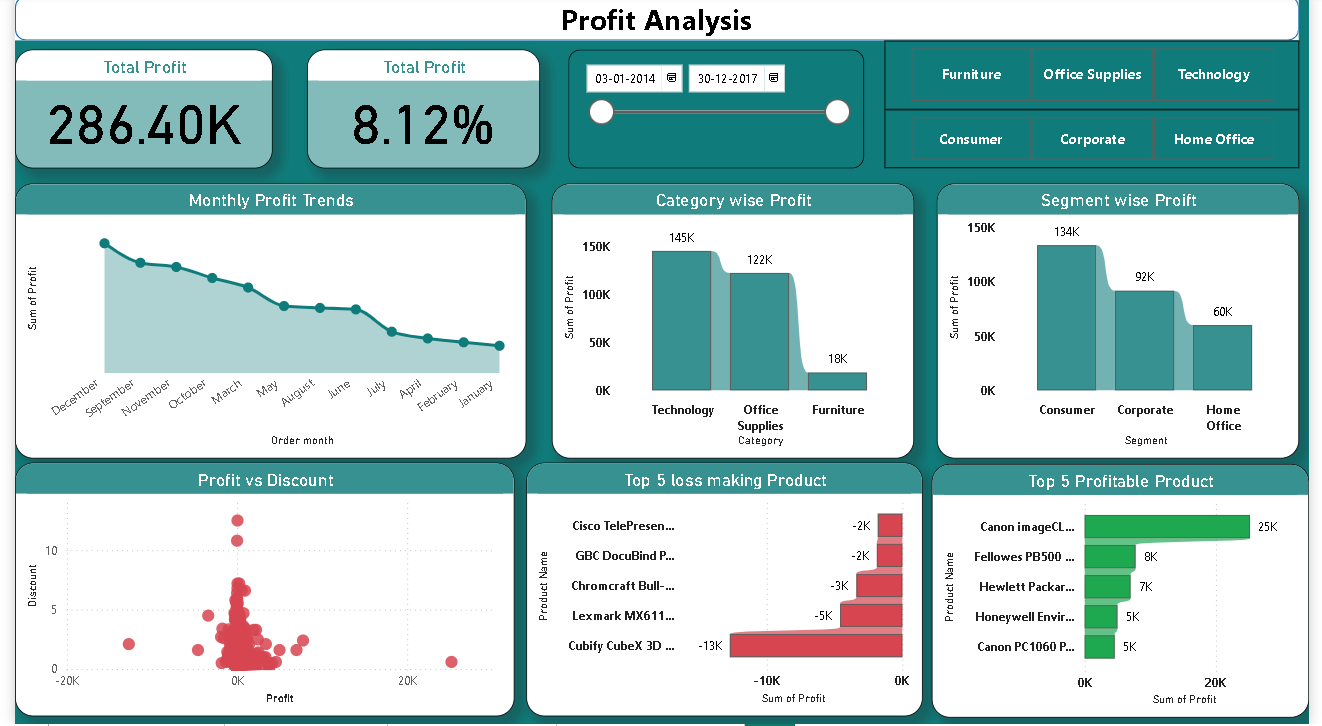

What the dashboard file says about the page in this screenshot:
{"tool":"powerbi","page":{"name":"Profit Dashboard","canvas":[1280,720],"ordinal":2},"visuals":[{"type":"shape","box":[0,0,1270,44.1],"z":0},{"type":"card","title":"Total Profit","fields":{"Values":["Sum(final_data.Profit)"]},"box":[0,53,254.8,117.3],"z":1000},{"type":"card","title":"Total Profit","fields":{"Values":["final_data.Profit Margin"]},"box":[288.8,53,230.8,117.3],"z":2000},{"type":"lineChart","title":"Monthly Profit Trends","fields":{"Category":["final_data.Order month"],"Y":["Sum(final_data.Profit)"]},"box":[0,185.4,505.7,272.4],"z":3000},{"type":"columnChart","title":"Category wise Profit","fields":{"Category":["final_data.Category"],"Y":["Sum(final_data.Profit)"]},"box":[531,185.4,358.2,272.4],"z":4000},{"type":"columnChart","title":"Segment wise Proift","fields":{"Category":["final_data.Segment"],"Y":["Sum(final_data.Profit)"]},"box":[911.8,185.4,358.2,272.4],"z":5000},{"type":"scatterChart","title":"Profit vs Discount","fields":{"X":["Sum(final_data.Profit)"],"Y":["Sum(final_data.Discount)"],"Category":["final_data.Product Name"]},"box":[0,461.6,494.4,251],"z":6000},{"type":"barChart","title":"Top 5 loss making Product","fields":{"Category":["final_data.Product Name"],"Y":["Sum(final_data.Profit)"]},"box":[505.7,461.6,392.2,251],"z":7000},{"type":"barChart","title":"Top 5 Profitable Product","fields":{"Category":["final_data.Product Name"],"Y":["Sum(final_data.Profit)"]},"box":[906.8,462.9,373.3,251],"z":8000},{"type":"slicer","fields":{"Values":["final_data.Order Date"]},"box":[547.4,53,292.6,117.3],"z":9000},{"type":"slicer","fields":{"Values":["final_data.Category"]},"box":[860.1,44.1,409.9,68.1],"z":10000},{"type":"slicer","fields":{"Values":["final_data.Segment"]},"box":[860.1,112.2,409.9,58],"z":11000}]}

Visuals, with their boxes in screenshot pixels (x1, y1, x2, y2), scaled from the page's 1280x720 canvas onto the 1322x726 screenshot:
shape: region(0, 0, 1312, 44)
"Total Profit" card: region(0, 53, 263, 172)
"Total Profit" card: region(298, 53, 537, 172)
"Monthly Profit Trends" lineChart: region(0, 187, 522, 462)
"Category wise Profit" columnChart: region(548, 187, 918, 462)
"Segment wise Proift" columnChart: region(942, 187, 1312, 462)
"Profit vs Discount" scatterChart: region(0, 465, 511, 719)
"Top 5 loss making Product" barChart: region(522, 465, 927, 719)
"Top 5 Profitable Product" barChart: region(937, 467, 1321, 720)
slicer - final_data.Order Date: region(565, 53, 868, 172)
slicer - final_data.Category: region(888, 44, 1312, 113)
slicer - final_data.Segment: region(888, 113, 1312, 172)
